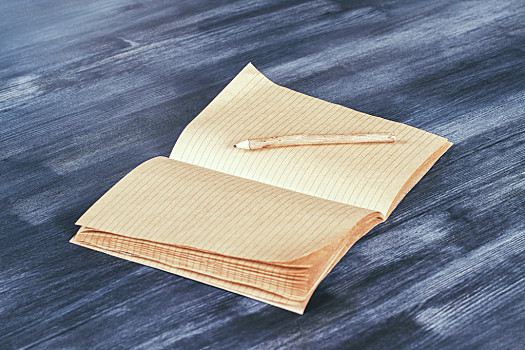book: (67, 60, 453, 316)
